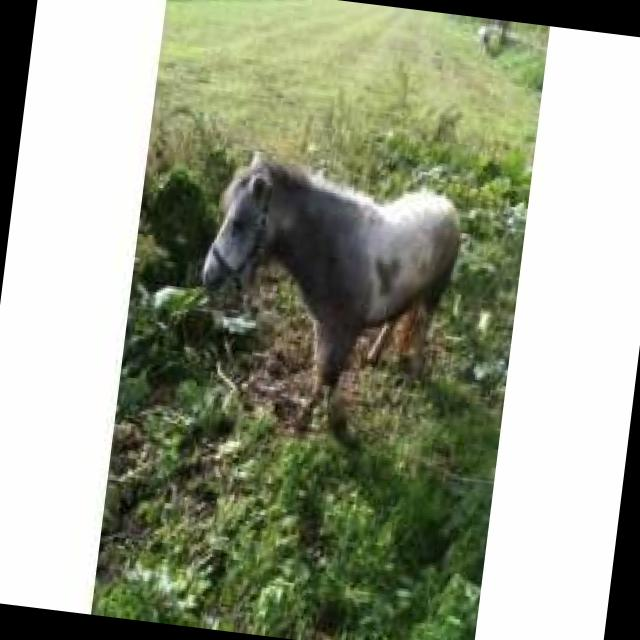horse: (190, 154, 454, 424)
